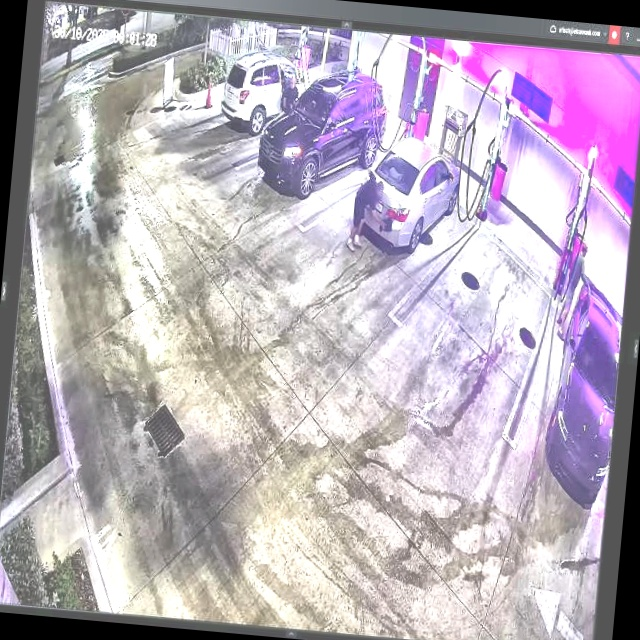Car: (257, 68, 393, 202), (352, 134, 462, 259)
